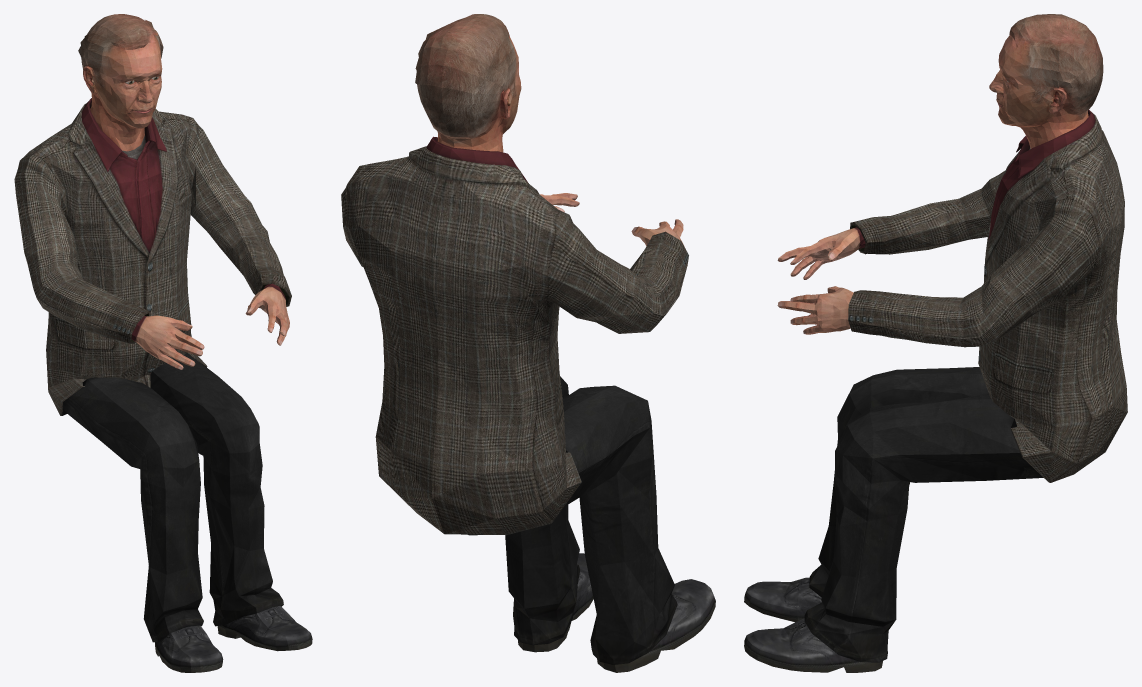
The model's file is male-adult-03.obj.
3 views of the same model, side by side, from view 1: azimuth 30°, elevation 25°; view 2: azimuth 150°, elevation 25°; view 3: azimuth 270°, elevation 25° (orthographic). The views are drawn at different scales.
Parts seen in each view (by area): view 1: m004_hipoly_81_bones_opacity_0, Head_1, m004_hipoly_81_bones_opacity_2; view 2: m004_hipoly_81_bones_opacity_0, Head_1, m004_hipoly_81_bones_opacity_2; view 3: m004_hipoly_81_bones_opacity_0, Head_1, m004_hipoly_81_bones_opacity_2.
Boxes of the visible parts, bbox=[...] form: m004_hipoly_81_bones_opacity_0: bbox=[14, 98, 312, 672]; Head_1: bbox=[81, 14, 162, 151]; m004_hipoly_81_bones_opacity_2: bbox=[78, 20, 163, 70]; m004_hipoly_81_bones_opacity_0: bbox=[341, 136, 715, 672]; Head_1: bbox=[417, 14, 521, 152]; m004_hipoly_81_bones_opacity_2: bbox=[415, 27, 516, 93]; m004_hipoly_81_bones_opacity_0: bbox=[744, 109, 1127, 672]; Head_1: bbox=[989, 14, 1103, 148]; m004_hipoly_81_bones_opacity_2: bbox=[1024, 40, 1096, 88].
Bounding box in the file's own units: 0.6298 × 1.45 × 0.7995.
Materials: 3 (3 with a texture image).
